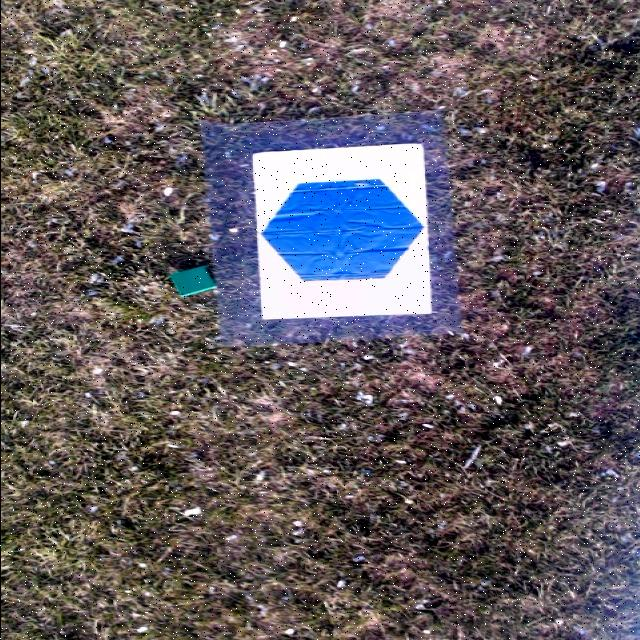blue_hexagon: (261, 181, 424, 280)
